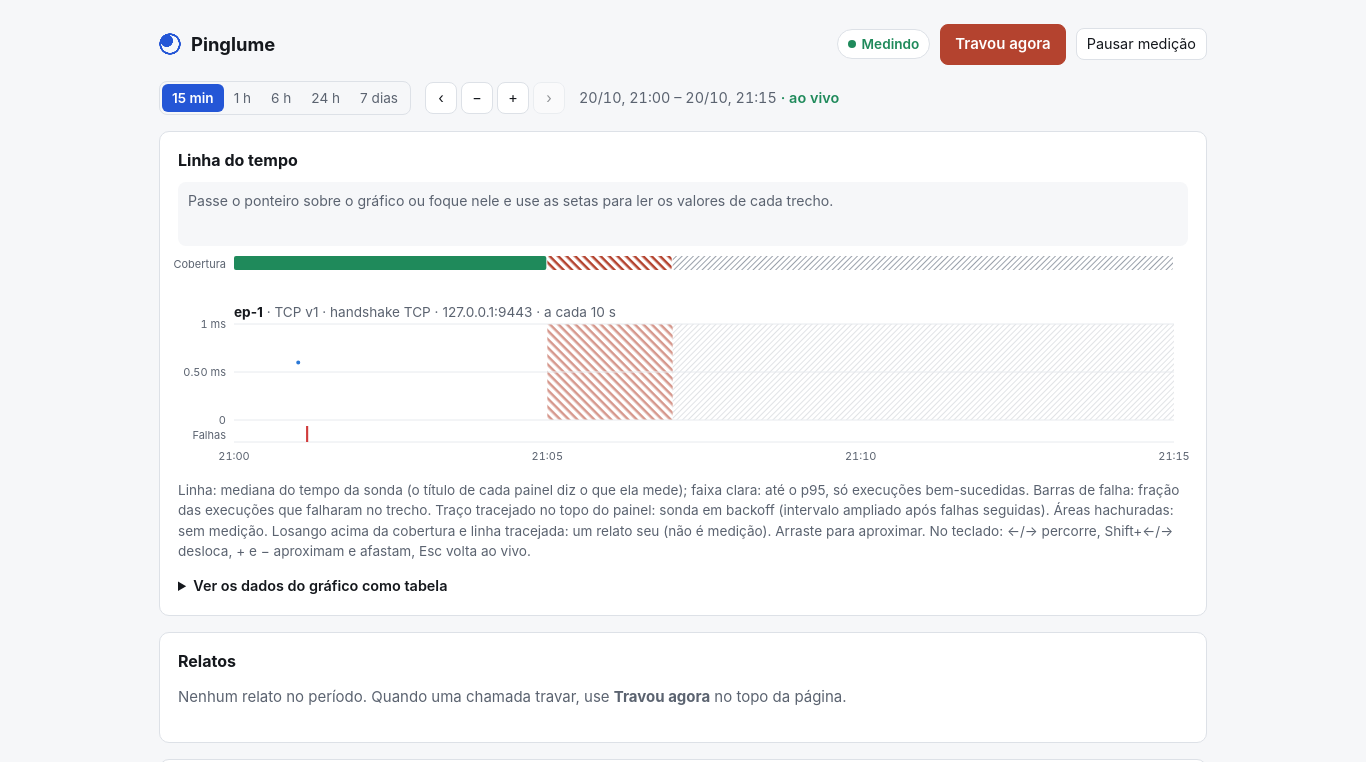
Test: relatar: diálogo envia o sintoma e a análise aparece com ressalva de causalidade
Step 1. Click the button "Travou agora" → (1003,44), box [940,24,1066,64]
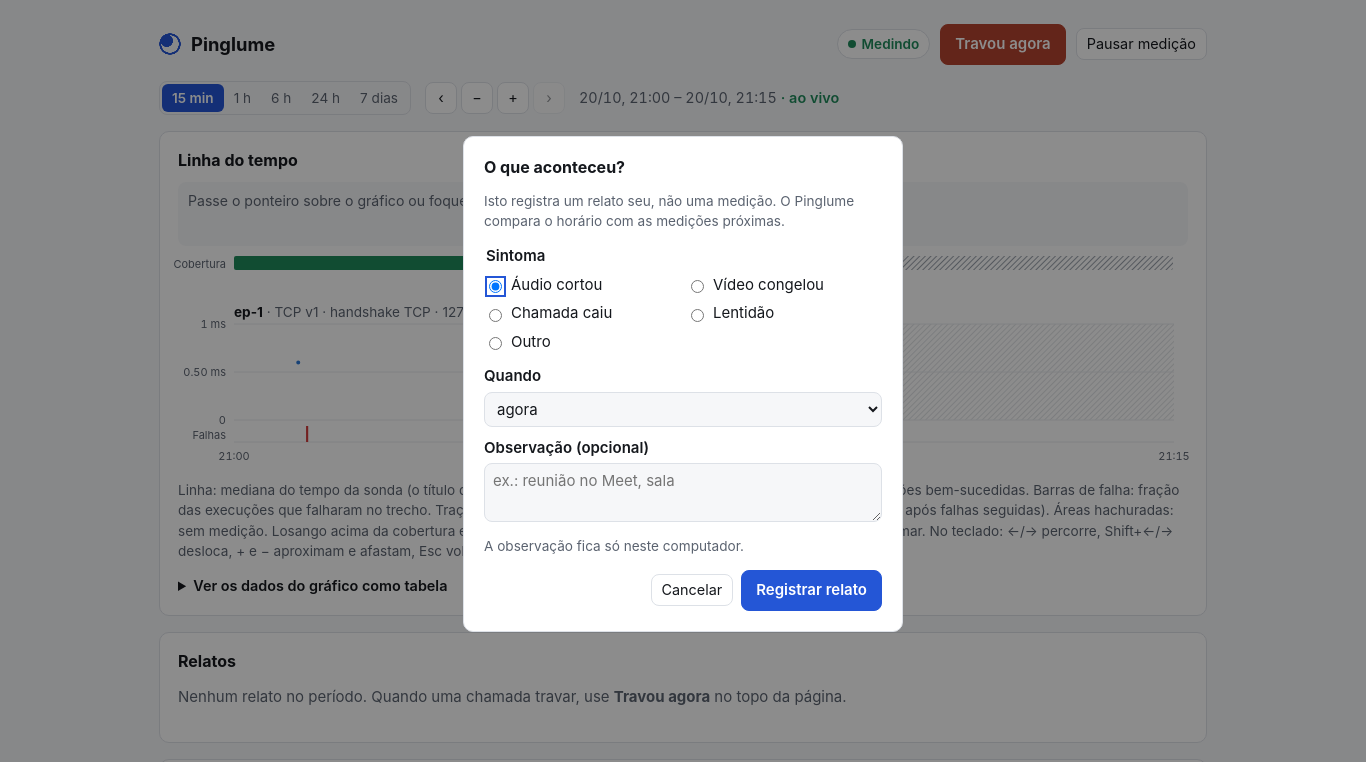
Step 2. Click the radio button labelled "Vídeo congelou" → (698,287), box [691,280,704,293]
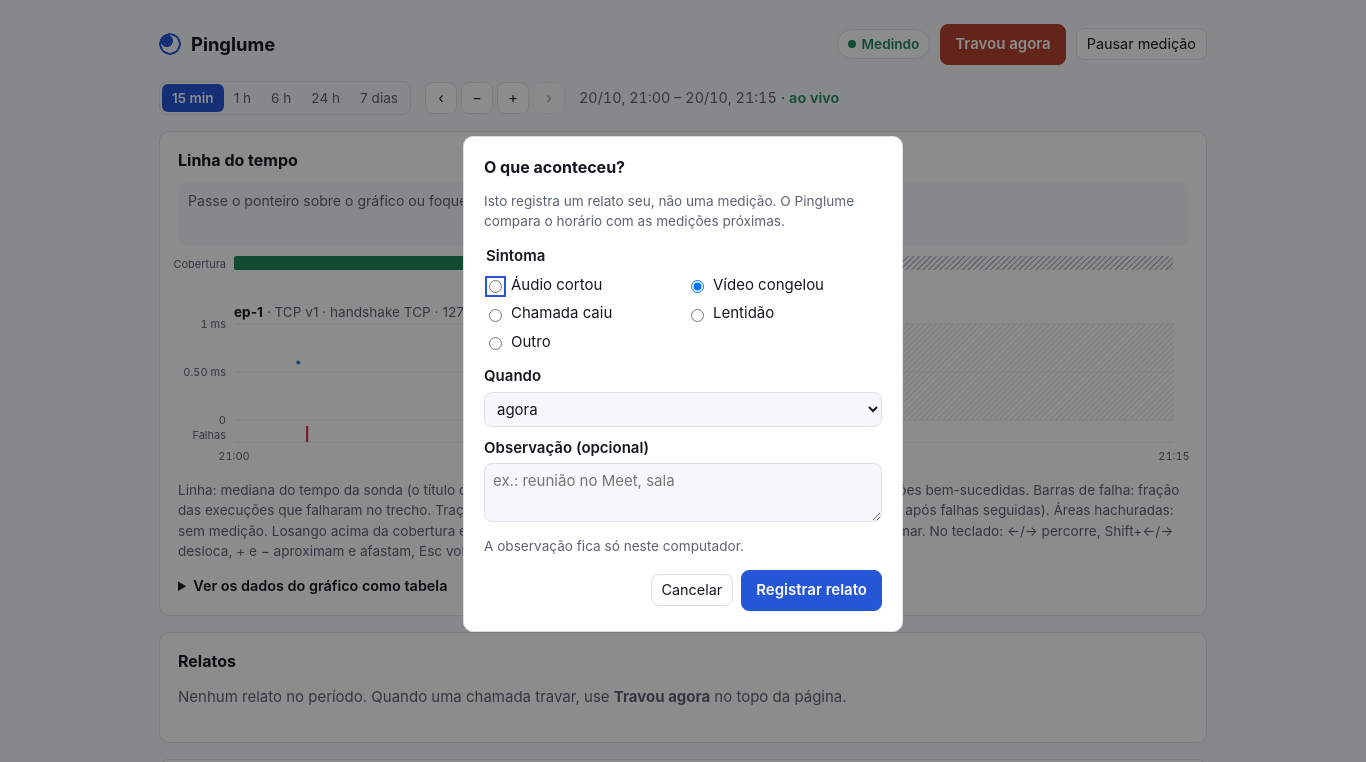
Step 3. Click the button "Registrar relato" → (812,590), box [741,570,882,610]
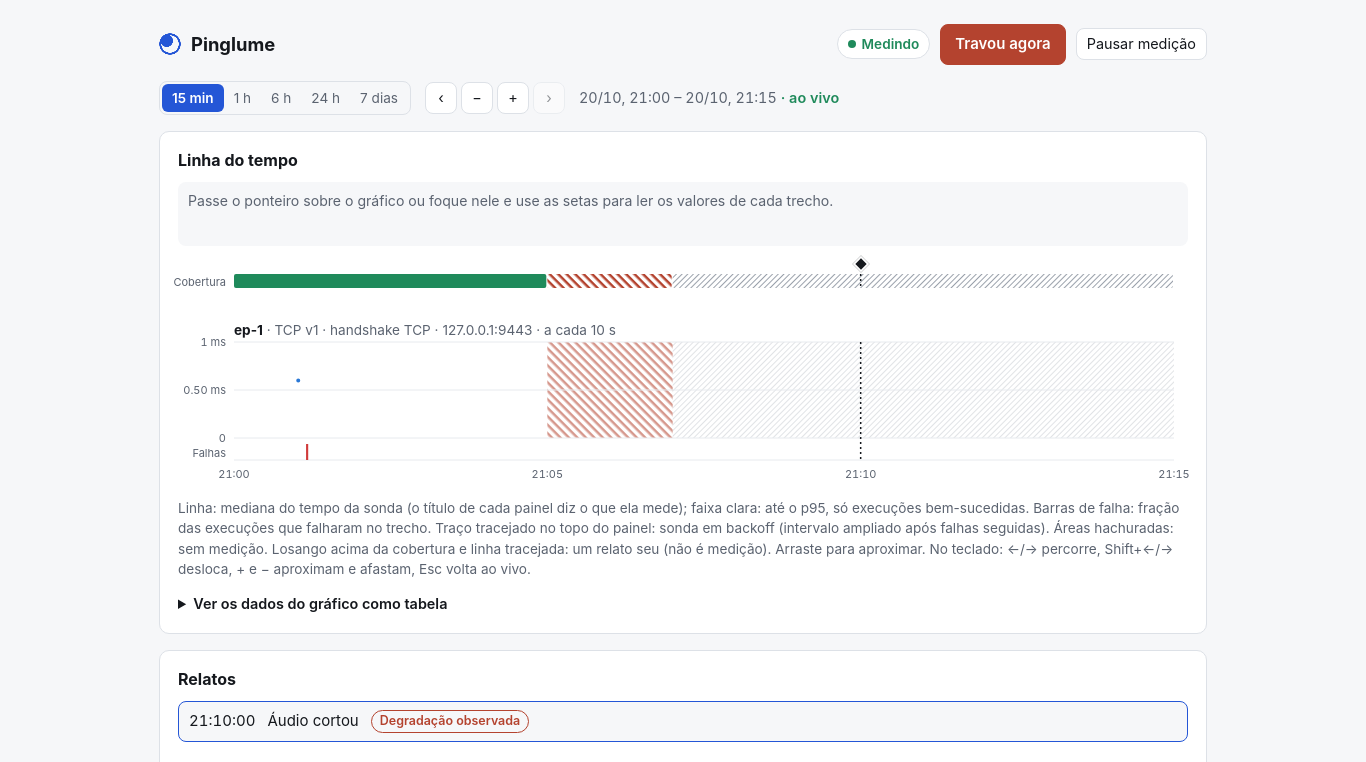
Now the text "Degradação observada" is shown, box [371,710,529,733]
Now the button named "Relato: Áudio cortou às" is shown, box [852,255,869,272]
